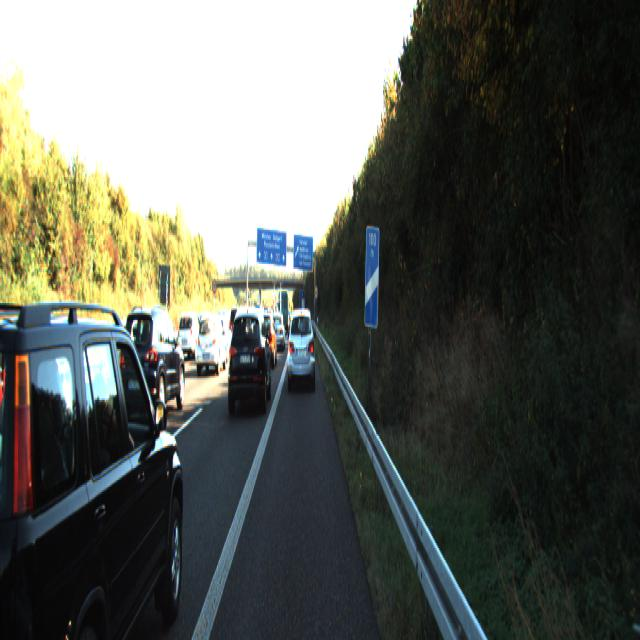Car: (0, 304, 190, 639), (116, 303, 184, 429), (0, 324, 61, 456), (228, 305, 272, 417), (104, 314, 154, 391), (286, 304, 315, 390), (195, 312, 227, 374), (177, 308, 205, 359), (255, 310, 278, 368), (270, 310, 286, 349), (280, 286, 290, 330)
